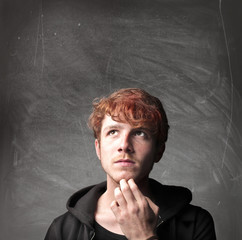teen: (93, 104, 169, 179)
